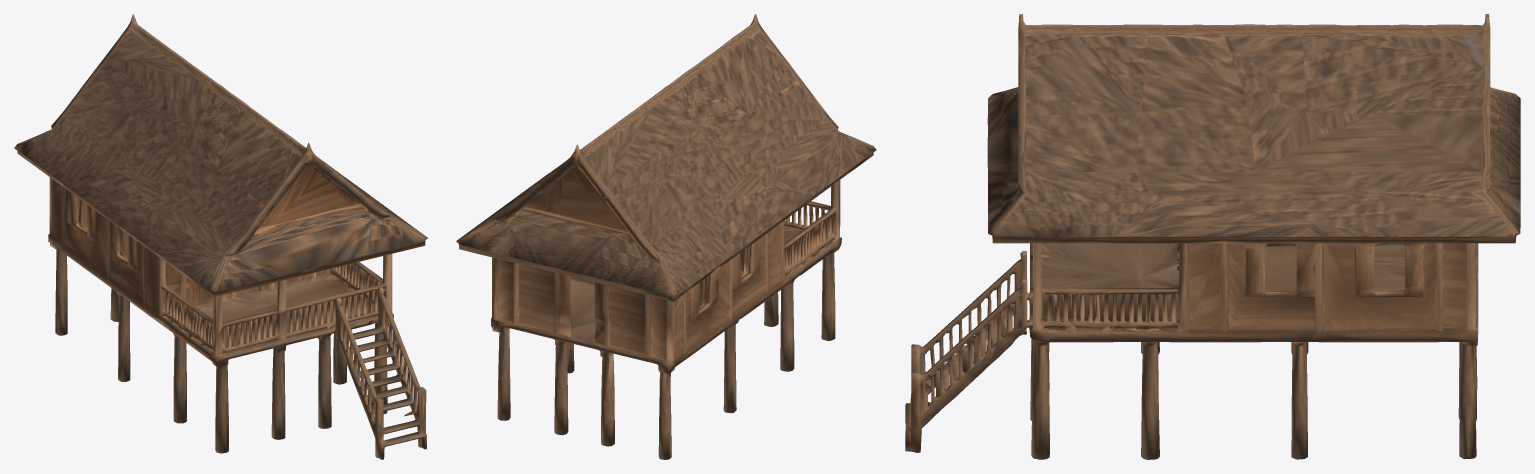
File: SM_StiltedHouse_Wood_BlenderOptimized.fbx
3 views of the same model, side by side, from view 1: azimuth 30°, elevation 25°; view 2: azimuth 150°, elevation 25°; view 3: azimuth 270°, elevation 25° (orthographic). The views are drawn at different scales.
Parts seen in each view (by area): view 1: Mesh_0; view 2: Mesh_0; view 3: Mesh_0.
Boxes of the visible parts, x1,y1,x2,y2 form: Mesh_0: (14, 14, 427, 459); Mesh_0: (456, 14, 876, 459); Mesh_0: (905, 14, 1520, 459).
Size of the model in its own units: 1.03 by 1.33 by 1.89.
